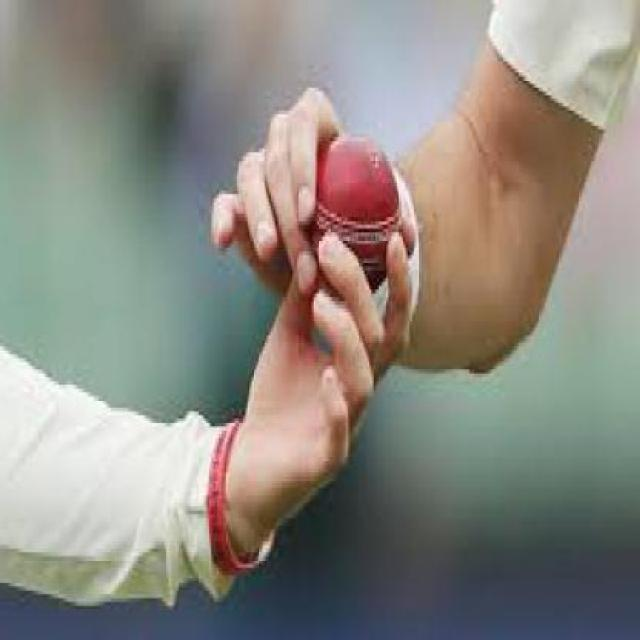ball: (270, 122, 440, 286)
